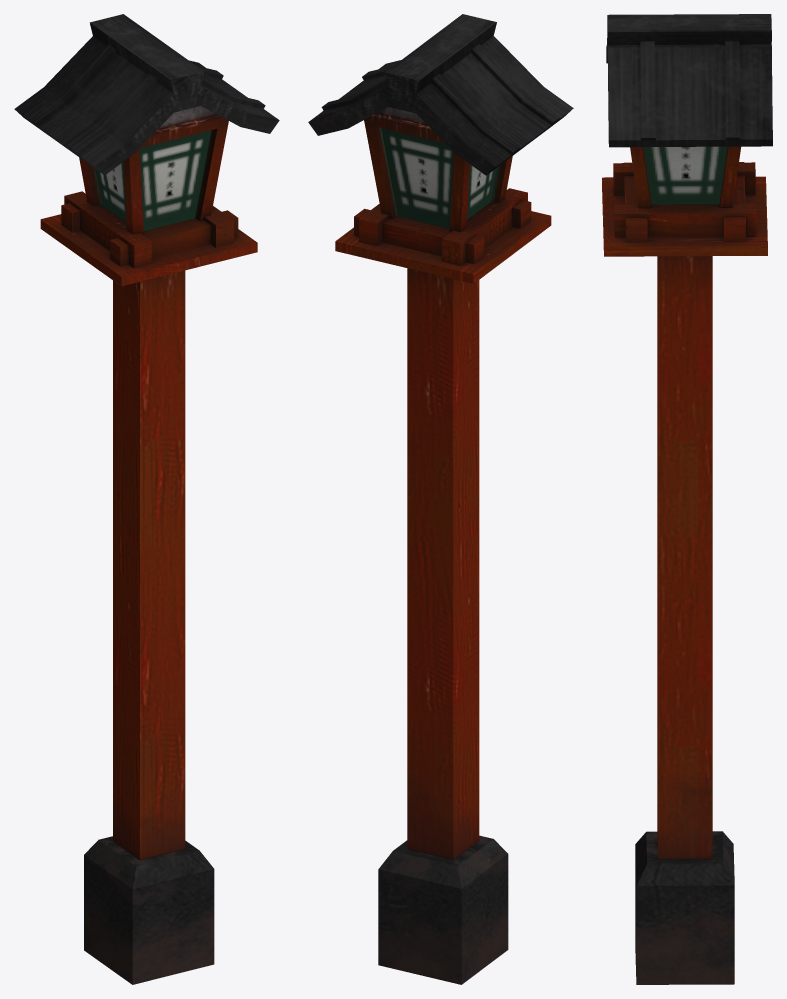
The model's file is NNJ0310004.fbx.
The picture shows the model from 3 angles, left to right: view 1: azimuth 30°, elevation 25°; view 2: azimuth 150°, elevation 25°; view 3: azimuth 270°, elevation 25°; orthographic projection. The views are drawn at different scales.
Visible parts, largest first — view 1: smNNJ0310004; view 2: smNNJ0310004; view 3: smNNJ0310004.
Part boxes in pixels (bbox=[...]): smNNJ0310004: bbox=[14, 14, 279, 984]; smNNJ0310004: bbox=[308, 14, 573, 984]; smNNJ0310004: bbox=[602, 14, 772, 984].
Bounding box in the file's own units: 62.82 × 286 × 47.1.
Materials: 1 (1 with a texture image).
